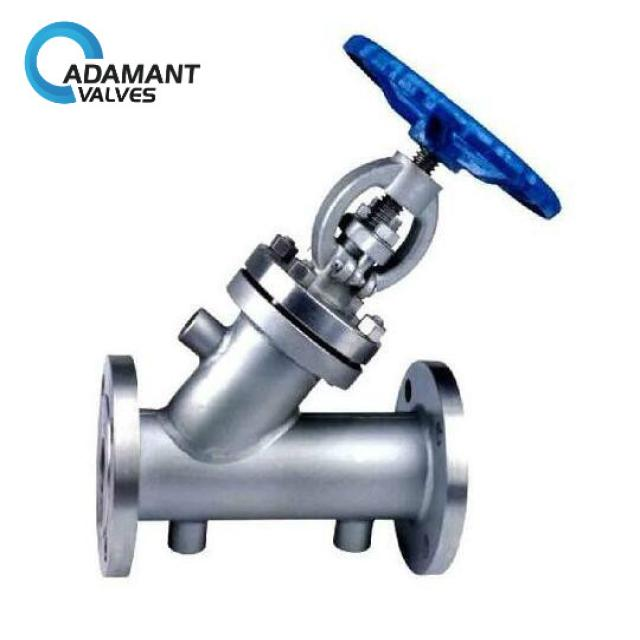Wheel Handle Valve Threaded: (324, 16, 602, 238)
